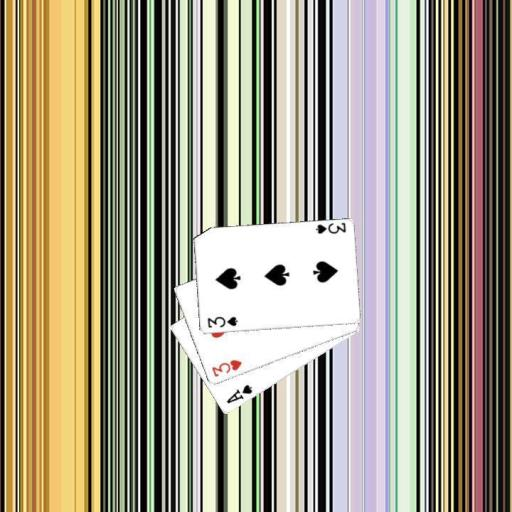card-corner: (208, 357, 244, 378), (223, 382, 254, 405), (204, 314, 239, 329), (312, 220, 347, 235)
